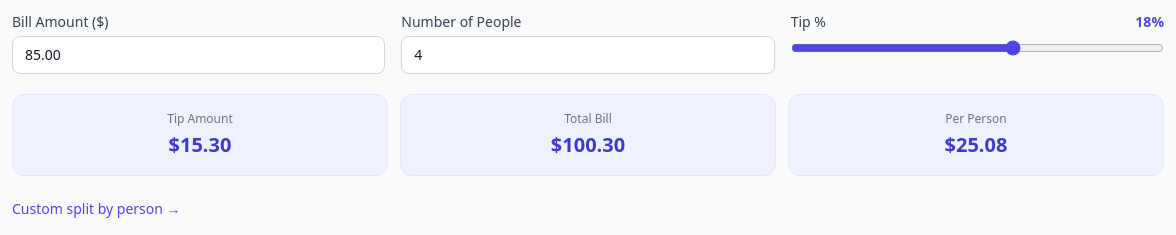
Test case: TipSplitter › changing number of people updates per person amount
Replace the text in the number field below "Bill Amount (" with "100" at {"x": 199, "y": 55}, box [12,36,385,74]
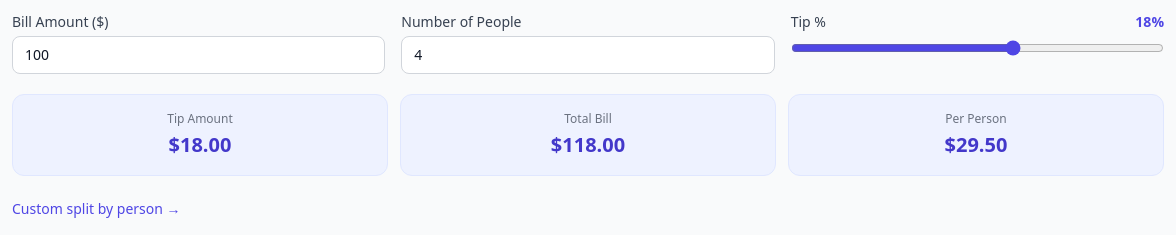
Set the slider to "0" at {"x": 799, "y": 48}, box [791,40,1164,56]
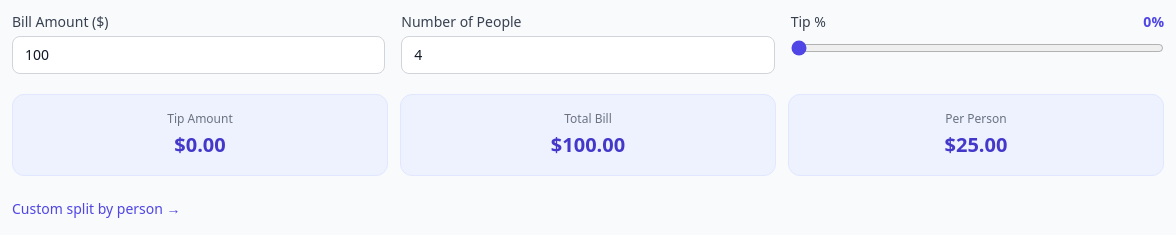
Note: With 0% tip and bill $100, per person depends on people count
Replace the text in the number field below "Number of People" with "5" at {"x": 588, "y": 55}, box [401,36,775,74]
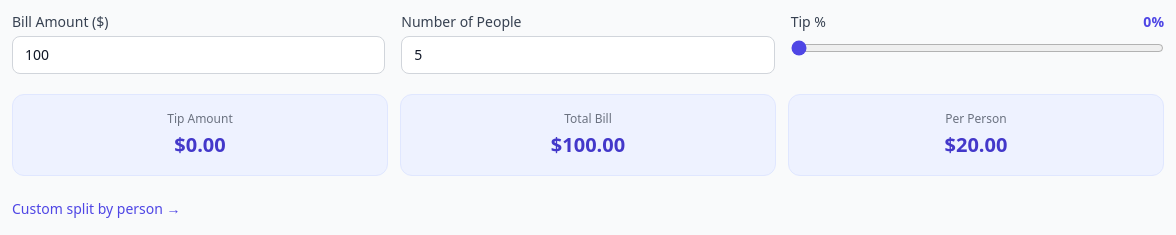
expect the text "$20.00" is shown: met, box [944,131,1007,158]
